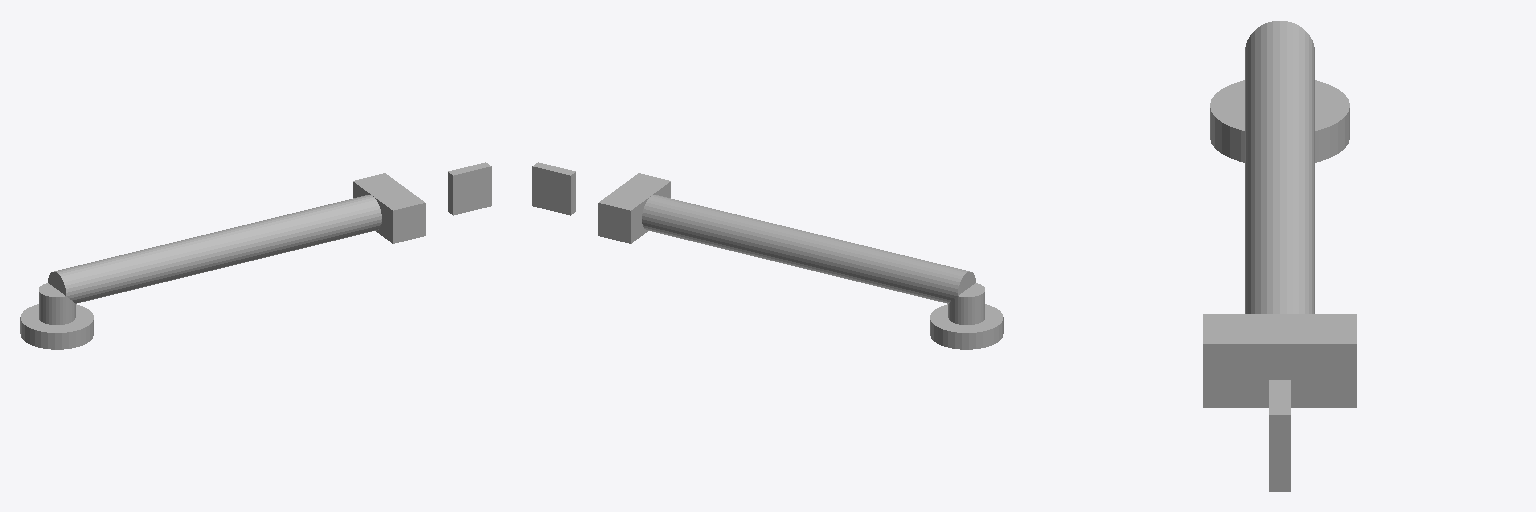
URDF robot description (URC):
<?xml version="1.0"?>
<robot name="URC">
  <link name="world"/>
 
  <link name="base_link">
    <visual>
      <geometry>
        <cylinder length="0.05" radius="0.1"/>
      </geometry>
      <material name="silver">
        <color rgba="0.75 0.75 0.75 1"/>
      </material>
      <origin rpy="0 0 0" xyz="0 0 0.025"/>
    </visual>
    <collision>
      <geometry>
        <cylinder length="0.05" radius="0.1"/>
      </geometry>
      <origin rpy="0 0 0" xyz="0 0 0.025"/>
    </collision>
    <inertial>
      <mass value="1.0"/>
      <origin rpy="0 0 0" xyz="0 0 0.025"/>
      <inertia ixx="0.0027" iyy="0.0027" izz="0.005" ixy="0" ixz="0" iyz="0"/>
    </inertial>
  </link>

  <joint name="fixed" type="fixed">
    <parent link="world"/>
    <child link="base_link"/>
  </joint>

  <link name="torso">
    <visual>
      <geometry>
        <cylinder length="0.084" radius="0.05"/>
      </geometry>
      <material name="silver">
        <color rgba="0.75 0.75 0.75 1"/>
      </material>
      <origin rpy="0 0 0" xyz="0 0 0.042"/>
    </visual>
    <collision>
      <geometry>
        <cylinder length="0.084" radius="0.05"/>
      </geometry>
      <origin rpy="0 0 0" xyz="0 0 0.042"/>
    </collision>
    <inertial>
      <mass value="1.0"/>
      <origin rpy="0 0 0" xyz="0 0 0.042"/>
      <inertia ixx="0.02146" iyy="0.02146" izz="0.00125" ixy="0" ixz="0" iyz="0"/>
    </inertial>
  </link>

  <joint name="base_twist" type="continuous">
    <axis xyz="0 0 1"/>
    <parent link="base_link"/>
    <child link="torso"/>
    <origin rpy="0 0 0" xyz="0.0 0.0 0.05"/>
  </joint>

  <link name="middle_arm">
    <visual>
      <geometry>
        <cylinder length="0.5584" radius="0.05"/>
      </geometry>
      <material name="silver"/>
      <origin rpy="0 0 0" xyz="0 0 0.2792"/>
    </visual>
    <collision>
      <geometry>
        <cylinder length="0.5584" radius="0.05"/>
      </geometry>
      <origin rpy="0 0 0" xyz="0 0 0.2792"/>
    </collision>
    <inertial>
      <mass value="1.0"/>
      <origin rpy="0 0 0" xyz="0 0 0.2792"/>
      <inertia ixx="0.01396" iyy="0.01396" izz="0.00125" ixy="0" ixz="0" iyz="0"/>
    </inertial>
  </link>

  <joint name="elbow_lower" type="continuous">
    <axis xyz="0 1 0"/>
    <parent link="torso"/>
    <child link="middle_arm"/>
    <origin rpy="0 1.5708 0" xyz="0.0 0 0.084"/>
  </joint>

  <link name="lower_arm">
    <visual>
      <geometry>
        <cylinder length="0.3673" radius="0.05"/>
      </geometry>
      <material name="silver"/>
      <origin rpy="0 0 0" xyz="0 0 0.18365"/>
    </visual>
    <collision>
      <geometry>
        <cylinder length="0.3673" radius="0.05"/>
      </geometry>
      <origin rpy="0 0 0" xyz="0 0 0.18365"/>
    </collision>
    <inertial>
      <mass value="1.0"/>
      <origin rpy="0 0 0" xyz="0 0 0.18365"/>
      <inertia ixx="0.01396" iyy="0.01396" izz="0.00125" ixy="0" ixz="0" iyz="0"/>
    </inertial>
  </link>

  <joint name="elbow_middle" type="continuous">
    <axis xyz="0 1 0"/>
    <parent link="middle_arm"/>
    <child link="lower_arm"/>
    <origin rpy="0 0 0" xyz="0.0 0 0.5584"/>
  </joint>

  <link name="upper_arm">
    <visual>
      <geometry>
        <cylinder length="0.064" radius="0.05"/>
      </geometry>
      <material name="silver"/>
      <origin rpy="0 0 0" xyz="0 0 0.032"/>
    </visual>
    <collision>
      <geometry>
        <cylinder length="0.064" radius="0.05"/>
      </geometry>
      <origin rpy="0 0 0" xyz="0 0 0.032"/>
    </collision>
    <inertial>
      <mass value="1.0"/>
      <inertia ixx="0.00042" iyy="0.00042" izz="0.00042" ixy="0" ixz="0" iyz="0"/>
    </inertial>
  </link>

  <joint name="elbow_upper" type="continuous">
    <axis xyz="0 1 0"/>
    <parent link="lower_arm"/>
    <child link="upper_arm"/>
    <origin rpy="0 0 0" xyz="0.0 0.0 0.3673"/>
  </joint>

  <link name="grip_base">
    <visual>
      <geometry>
        <box size="0.1 0.22 0.1025"/>
      </geometry>
      <material name="silver"/>
    </visual>
    <collision>
      <geometry>
        <box size="0.1 0.22 0.1025"/>
      </geometry>
    </collision>
  </link>

  <joint name="grip_twist" type="continuous">
    <axis xyz="0 0 1"/>
    <parent link="upper_arm"/>
    <child link="grip_base"/>
    <origin rpy="0 0 0" xyz="0.0 0.0 0.11525"/>
  </joint>

  <link name="grip_fixed">
    <visual>
      <geometry>
        <box size="0.1 0.22 0.02"/>
      </geometry>
      <material name="silver"/>
    </visual>
    <collision>
      <geometry>
        <box size="0.1 0.22 0.02"/>
      </geometry>
    </collision>
  </link>

  <joint name="grip_base_to_fixed" type="fixed">
    <parent link="grip_base"/>
    <child link="grip_fixed"/>
    <origin rpy="0 0 0" xyz="0.0 0.0 0.01525"/>
  </joint>

  <link name="grip_finger">
    <visual>
      <geometry>
        <box size="0.03 0.12 0.12"/>
      </geometry>
      <material name="silver"/>
    </visual>
    <collision>
      <geometry>
        <box size="0.22 0.1 0.22"/>
      </geometry>
    </collision>
  </link>

  <joint name="grip" type="prismatic">
    <parent link="grip_base"/>
    <child link="grip_finger"/>
    <limit effort="1000.0" lower="-0.38" upper="0" velocity="0.5"/>
    <origin rpy="0 0 1.57075" xyz="0.0 0.0 0.2525"/>
  </joint>

  <transmission name="tran0">
    <type>transmission_interface/SimpleTransmission</type>
    <joint name="base_twist">
      <hardwareInterface>PositionJointInterface</hardwareInterface>
    </joint>
    <actuator name="motor0">
      <hardwareInterface>PositionJointInterface</hardwareInterface>
      <mechanicalReduction>1</mechanicalReduction>
    </actuator>
  </transmission>
  <transmission name="tran1">
    <type>transmission_interface/SimpleTransmission</type>
    <joint name="elbow_lower">
      <hardwareInterface>PositionJointInterface</hardwareInterface>
    </joint>
    <actuator name="motor1">
      <hardwareInterface>PositionJointInterface</hardwareInterface>
      <mechanicalReduction>1</mechanicalReduction>
    </actuator>
  </transmission>
  <transmission name="tran2">
    <type>transmission_interface/SimpleTransmission</type>
    <joint name="elbow_middle">
      <hardwareInterface>PositionJointInterface</hardwareInterface>
    </joint>
    <actuator name="motor2">
      <hardwareInterface>PositionJointInterface</hardwareInterface>
      <mechanicalReduction>1</mechanicalReduction>
    </actuator>
  </transmission>
  <transmission name="tran3">
    <type>transmission_interface/SimpleTransmission</type>
    <joint name="elbow_upper">
      <hardwareInterface>PositionJointInterface</hardwareInterface>
    </joint>
    <actuator name="motor3">
      <hardwareInterface>PositionJointInterface</hardwareInterface>
      <mechanicalReduction>1</mechanicalReduction>
    </actuator>
  </transmission>
  <gazebo>
    <plugin name="control" filename="libgazebo_ros_control.so"/>
  </gazebo>
  <gazebo>
    <plugin name="joint_state_publisher" filename="libgazebo_ros_joint_state_publisher.so">
      <jointName>base_twist, elbow_lower, elbow_middle, elbow_upper</jointName>
    </plugin>
  </gazebo>
</robot>

--- Facts derived from the render (not from the file) ---
3 views of the same robot in one strip: view 1: azimuth 30°, elevation 25°; view 2: azimuth 150°, elevation 25°; view 3: azimuth 270°, elevation 25° (orthographic).
Robot: URC — 9 links, 8 joints (5 continuous, 1 prismatic, 2 fixed); root link world; default pose: all joints at 0.
Links seen in each view (by area): view 1: middle_arm, lower_arm, grip_base, base_link, grip_finger, torso, upper_arm; view 2: middle_arm, lower_arm, grip_base, base_link, grip_finger, torso, upper_arm; view 3: grip_base, middle_arm, lower_arm, base_link, grip_finger, upper_arm.
Boxes of the visible links, bbox=[...] form: middle_arm: bbox=[48, 228, 243, 303]; lower_arm: bbox=[234, 200, 361, 262]; grip_base: bbox=[353, 173, 425, 243]; base_link: bbox=[20, 304, 93, 349]; grip_finger: bbox=[448, 162, 491, 215]; torso: bbox=[39, 283, 75, 324]; upper_arm: bbox=[349, 195, 381, 234]; middle_arm: bbox=[780, 228, 975, 303]; lower_arm: bbox=[662, 200, 789, 262]; grip_base: bbox=[598, 173, 670, 243]; base_link: bbox=[930, 304, 1003, 349]; grip_finger: bbox=[532, 162, 575, 215]; torso: bbox=[948, 283, 984, 324]; upper_arm: bbox=[642, 195, 674, 234]; grip_base: bbox=[1203, 314, 1356, 407]; middle_arm: bbox=[1245, 21, 1314, 212]; lower_arm: bbox=[1245, 186, 1314, 313]; base_link: bbox=[1210, 80, 1349, 162]; grip_finger: bbox=[1269, 380, 1290, 491]; upper_arm: bbox=[1248, 295, 1311, 313].
Size in the robot's own frame: 1.45 by 0.22 by 0.194 metres.
Geometry: primitives only (box / cylinder / sphere), no mesh files.